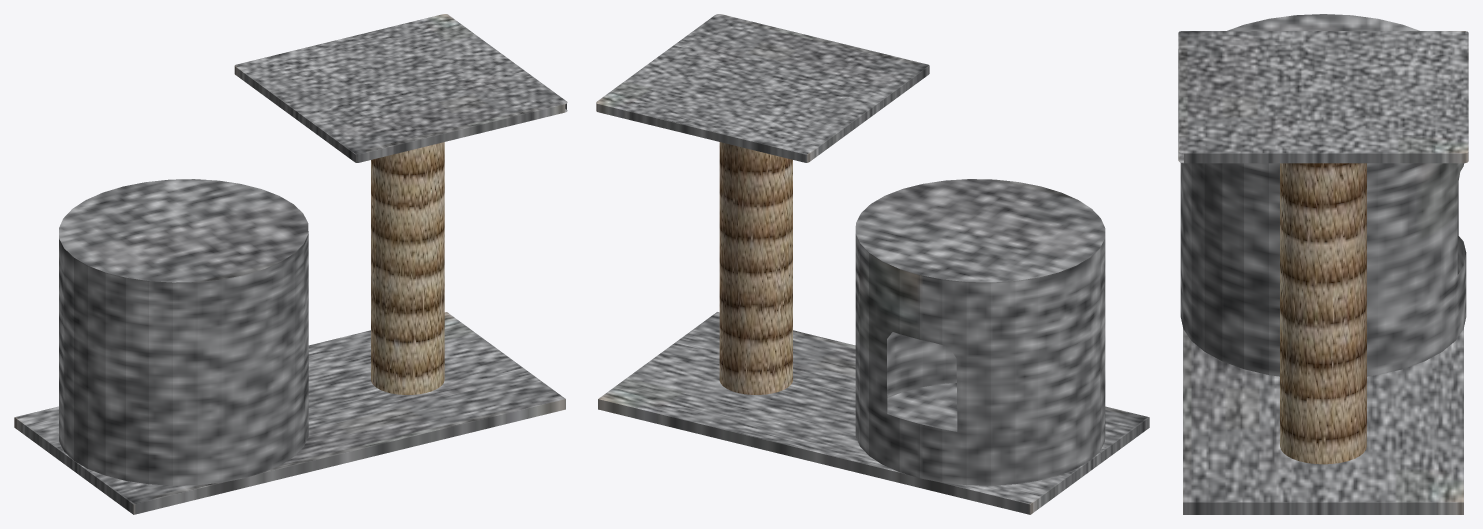
Rendered from house2.gltf.
The picture shows the model from 3 angles, left to right: view 1: azimuth 30°, elevation 25°; view 2: azimuth 150°, elevation 25°; view 3: azimuth 270°, elevation 25°; orthographic projection. The views are drawn at different scales.
Parts seen in each view (by area): view 1: Цилиндр, Плоскость.001, Плоскость, Цилиндр.001; view 2: Цилиндр, Плоскость.001, Плоскость, Цилиндр.001; view 3: Цилиндр, Плоскость.001, Плоскость, Цилиндр.001.
Boxes of the visible parts, x1,y1,x2,y2 form: Цилиндр: (59, 179, 308, 485); Плоскость.001: (234, 14, 567, 162); Плоскость: (14, 312, 565, 514); Цилиндр.001: (371, 142, 444, 394); Цилиндр: (855, 179, 1105, 485); Плоскость.001: (596, 14, 929, 162); Плоскость: (598, 312, 1149, 514); Цилиндр.001: (719, 142, 792, 394); Цилиндр: (1180, 14, 1466, 376); Плоскость.001: (1178, 31, 1468, 163); Плоскость: (1183, 328, 1463, 514); Цилиндр.001: (1280, 163, 1366, 464).
Size of the model in its own units: 4.08 by 2.76 by 2.
4 materials, 4 textured.
